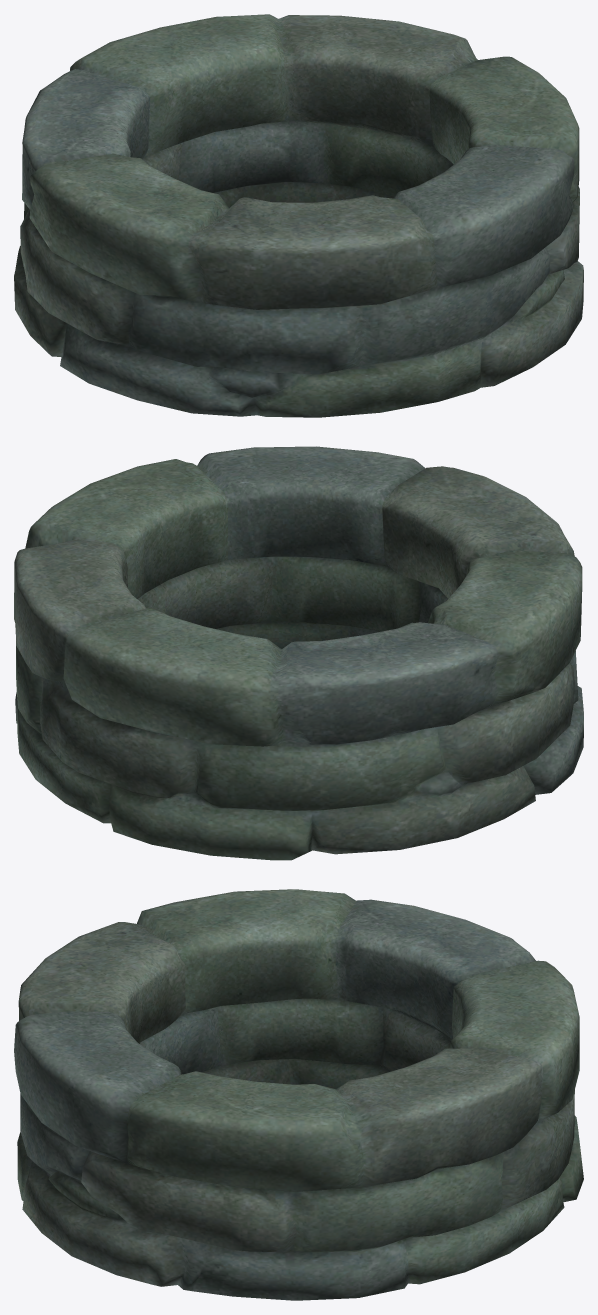
The model's file is FtrWell.glb.
3 renders of one model, top to bottom at view 1: azimuth 30°, elevation 25°; view 2: azimuth 150°, elevation 25°; view 3: azimuth 270°, elevation 25°, orthographic.
Visible parts, largest first — view 1: FtrWell__mBody; view 2: FtrWell__mBody; view 3: FtrWell__mBody.
Boxes of the visible parts, left/top/right/bottom form: FtrWell__mBody: left=14, top=14, right=583, bottom=417; FtrWell__mBody: left=14, top=446, right=583, bottom=860; FtrWell__mBody: left=14, top=889, right=583, bottom=1300.
Size of the model in its own units: 18.4 by 6.33 by 18.36.
Materials: 1 (1 with a texture image).
